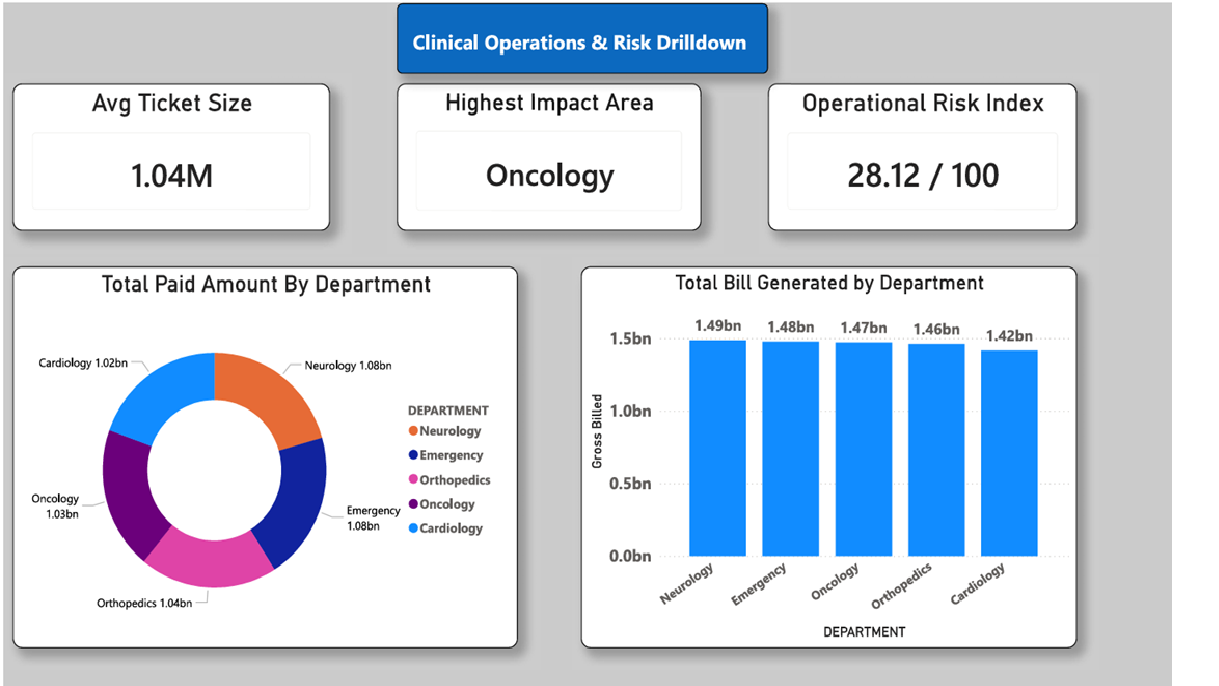

Layout of this report page (visuals, bound fields, positions):
{"tool":"powerbi","page":{"name":"Clinical & Dept Drilldown","canvas":[1280,720],"ordinal":1},"visuals":[{"type":"cardVisual","title":"Avg Ticket Size","fields":{"Data":["BILLING.Ticket Size per Patient"]},"box":[10,82.9,345.7,152.9],"z":0},{"type":"cardVisual","title":"Highest Impact Area","fields":{"Data":["Min(CLINICAL.DEPARTMENT)"]},"box":[428.6,82.9,332.9,152.9],"z":1000},{"type":"cardVisual","title":"Operational Risk Index","fields":{"Data":["BILLING.Operational Risk Index"]},"box":[834.3,82.9,337.1,152.9],"z":2000},{"type":"donutChart","title":"Total Paid Amount  By  Department","fields":{"Category":["CLINICAL.DEPARTMENT"],"Y":["BILLING.Total Paid"]},"box":[10,272.9,551.4,395.7],"z":3000},{"type":"columnChart","title":"Total Bill Generated by Department","fields":{"Y":["BILLING.Gross Billed"],"Category":["CLINICAL.DEPARTMENT"]},"box":[630,272.9,541.4,395.7],"z":4000},{"type":"textbox","box":[428.6,0,405.7,72.9],"z":4001}]}

Visuals, with their boxes in screenshot pixels (x1, y1, x2, y2), scaled from the page's 1280x720 canvas onto the 1219x686 screenshot:
"Avg Ticket Size" cardVisual: 10,79,339,225
"Highest Impact Area" cardVisual: 408,79,725,225
"Operational Risk Index" cardVisual: 795,79,1116,225
"Total Paid Amount  By  Department" donutChart: 10,260,535,637
"Total Bill Generated by Department" columnChart: 600,260,1116,637
textbox: 408,0,795,69
